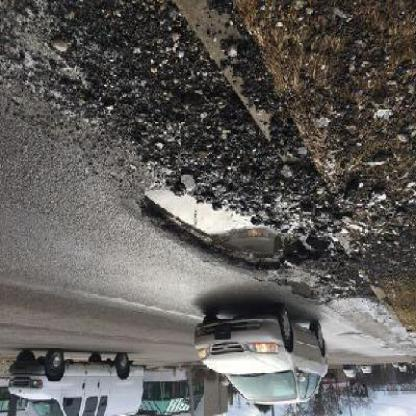pothole: (140, 185, 301, 277), (278, 278, 325, 306)
